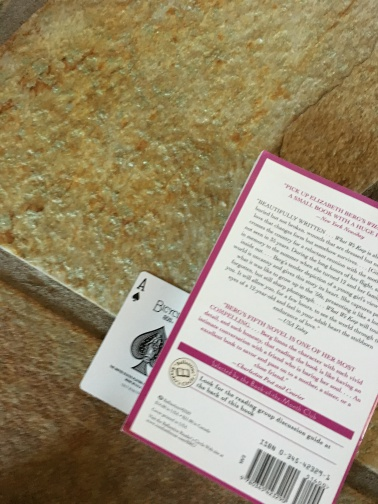ace: (78, 271, 192, 417)
